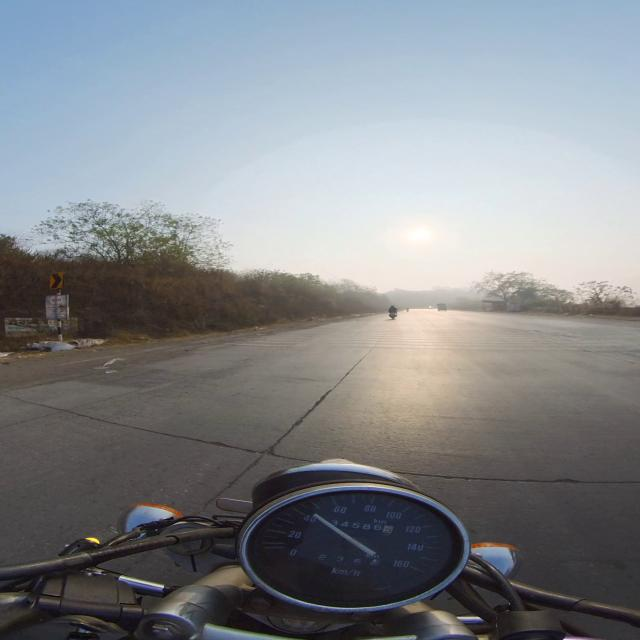motorcycle: (0, 460, 639, 639), (389, 312, 397, 320)
